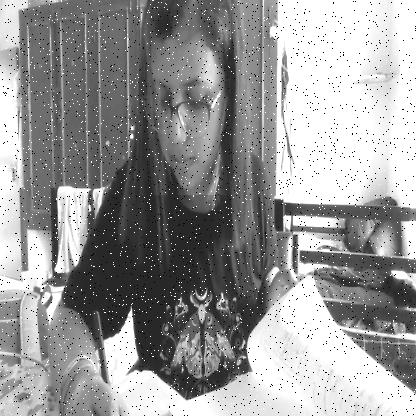Distracted: (140, 0, 231, 195)
